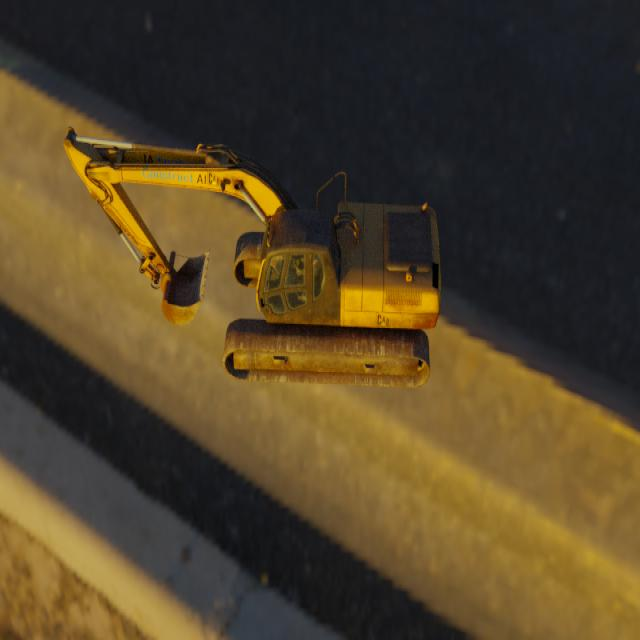excavator: (62, 125, 441, 388)
